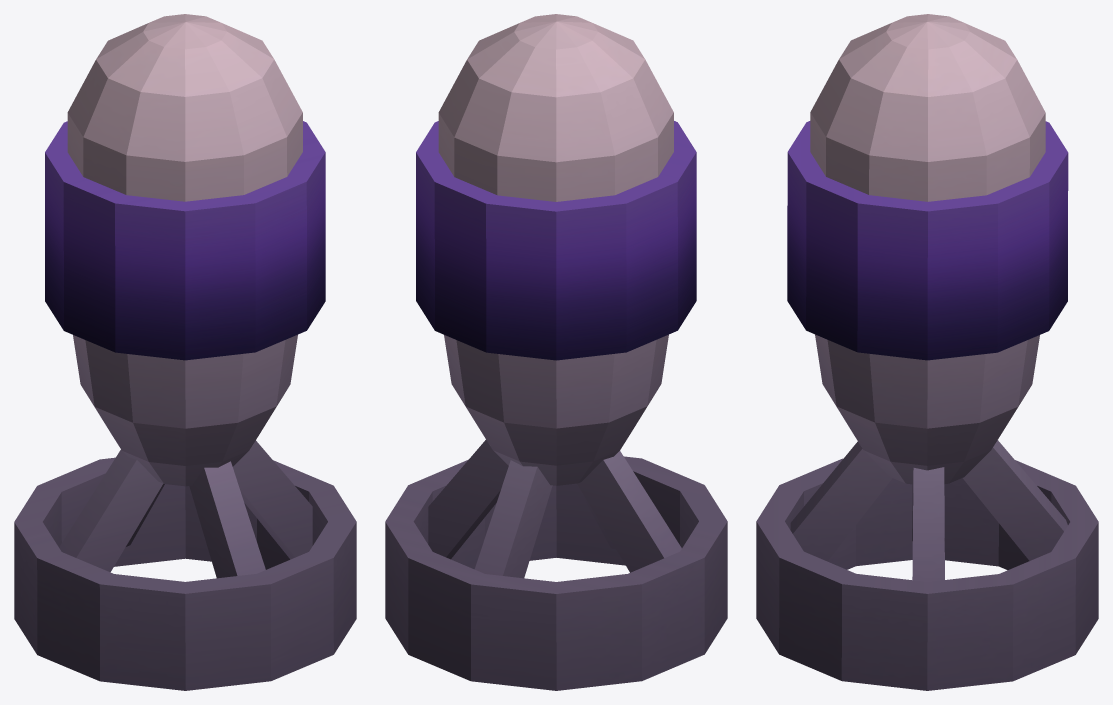
Rendered from Tank_Shell_Purple.fbx.
The picture shows the model from 3 angles, left to right: view 1: azimuth 30°, elevation 25°; view 2: azimuth 150°, elevation 25°; view 3: azimuth 270°, elevation 25°; orthographic projection.
Visible parts, largest first — view 1: Round Tank Shell; view 2: Round Tank Shell; view 3: Round Tank Shell.
Part boxes in pixels (left/top/right/bottom): Round Tank Shell: left=14, top=14, right=356, bottom=690; Round Tank Shell: left=385, top=14, right=727, bottom=690; Round Tank Shell: left=756, top=14, right=1098, bottom=690.
Bounding box in the file's own units: 47.69 × 91.74 × 47.72.
